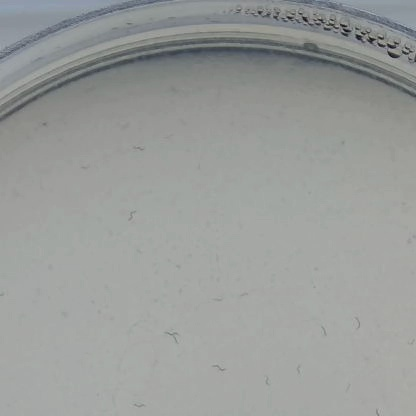worm: (227, 285, 256, 306), (342, 313, 366, 332), (210, 359, 231, 379), (164, 329, 185, 349), (204, 245, 225, 265), (128, 203, 143, 230), (117, 317, 140, 332), (363, 405, 394, 416), (203, 289, 224, 305), (128, 142, 150, 157), (313, 319, 331, 337), (263, 370, 276, 392), (76, 160, 94, 174), (129, 398, 149, 410), (339, 380, 354, 396), (402, 333, 416, 349), (296, 359, 306, 380)
